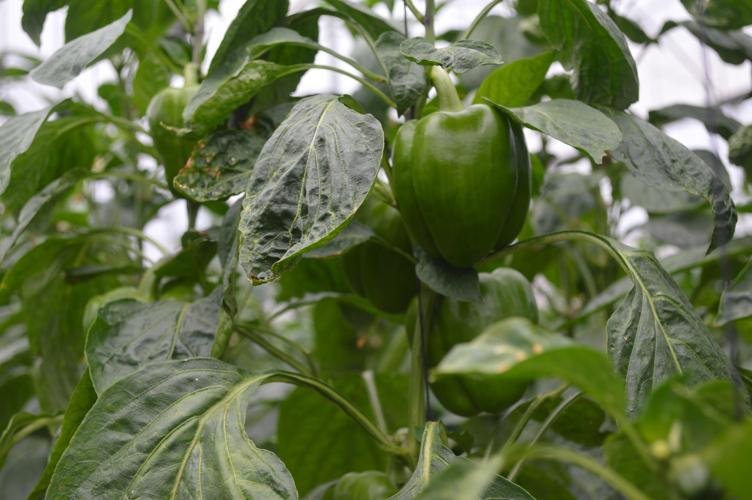BellPepper: (385, 109, 529, 260), (402, 267, 534, 410), (338, 188, 420, 313), (141, 87, 226, 185)
